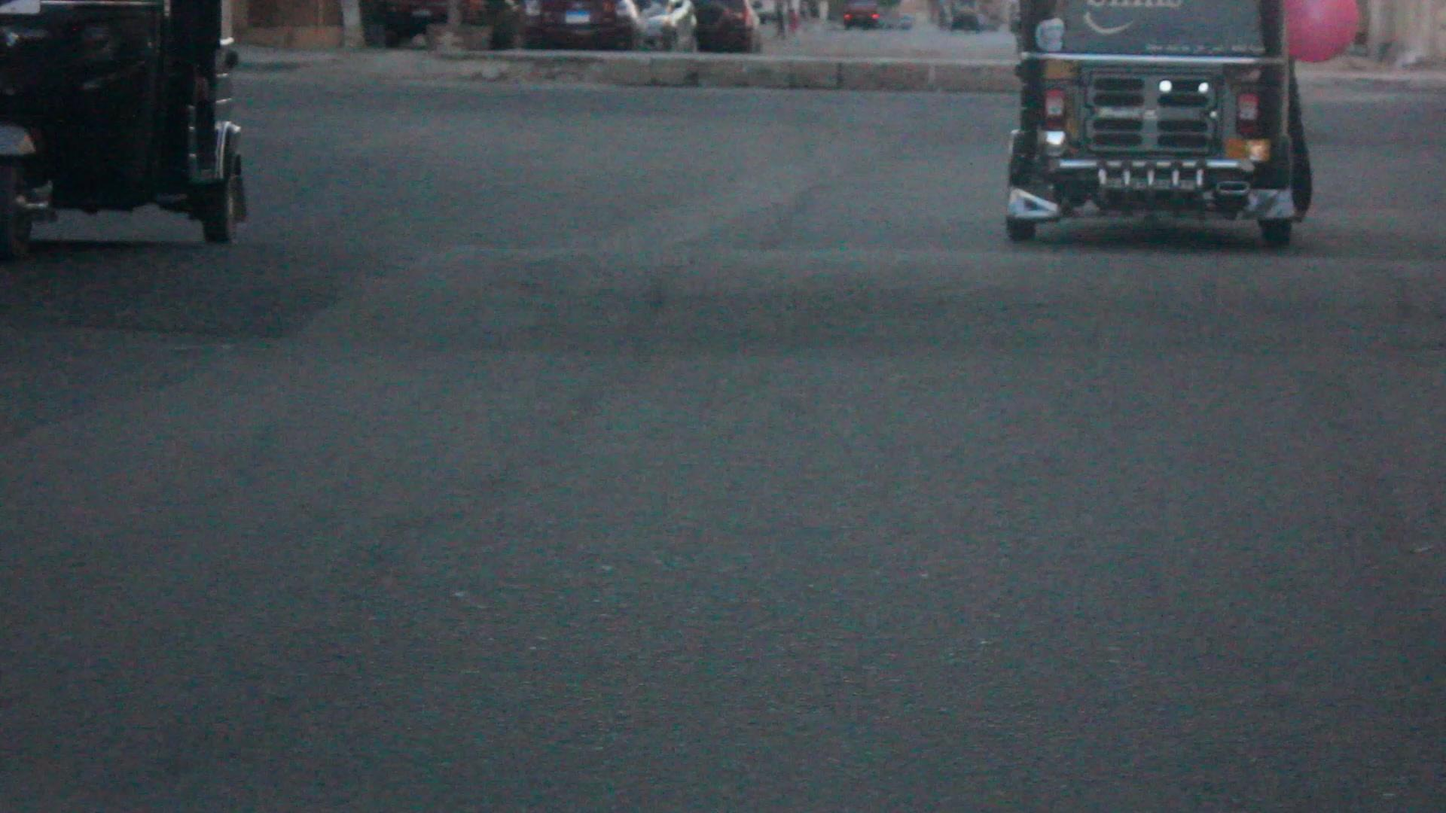Bump: (13, 233, 1446, 369)
